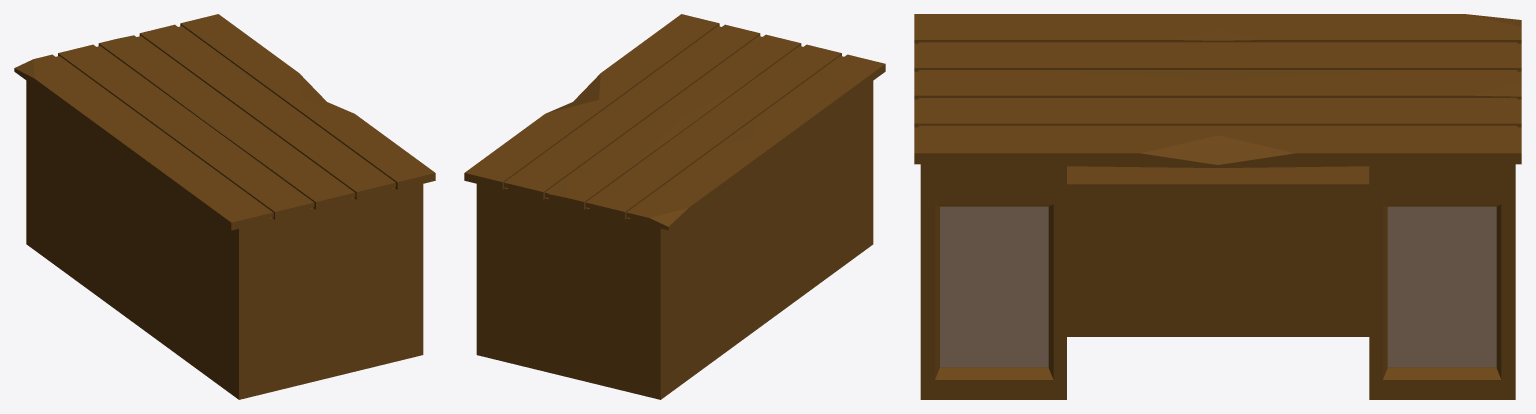
Rendered from Desk.fbx.
3 renders of one model, left to right at view 1: azimuth 30°, elevation 25°; view 2: azimuth 150°, elevation 25°; view 3: azimuth 270°, elevation 25°, orthographic. The views are drawn at different scales.
Visible parts, largest first — view 1: Desk; view 2: Desk; view 3: Desk.
Part boxes in pixels (bbox=[...]): Desk: bbox=[14, 14, 435, 399]; Desk: bbox=[464, 14, 885, 399]; Desk: bbox=[914, 14, 1521, 399].
Bounding box in the file's own units: 111 × 94.04 × 204.
